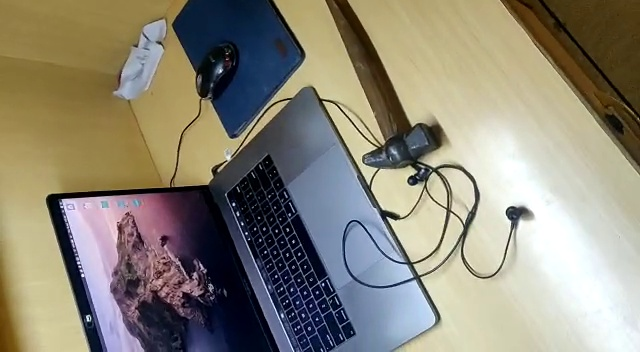hammer: (325, 1, 445, 170)
